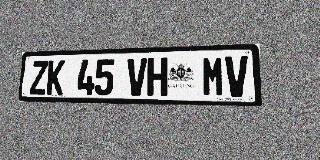4: (76, 59, 96, 95)
5: (95, 59, 114, 96)
H: (147, 58, 167, 96)
K: (46, 60, 65, 95)
M: (202, 56, 225, 97)
V: (225, 56, 249, 97), (127, 58, 147, 96)
Z: (30, 61, 48, 95)
